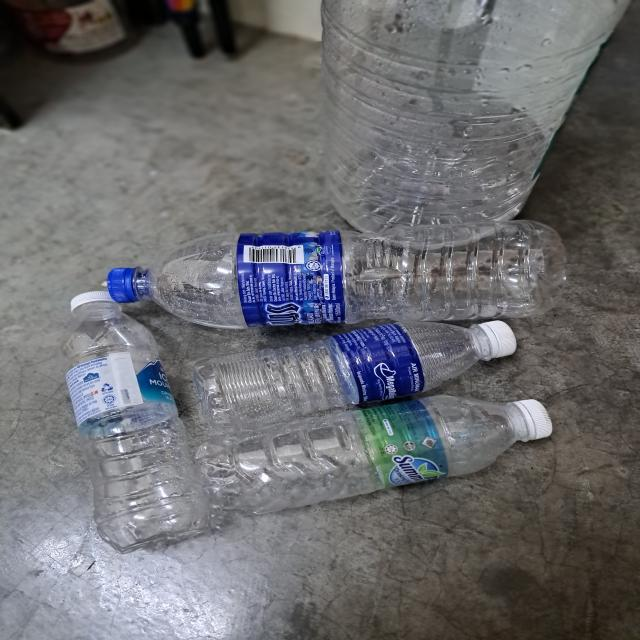plastic bottle: (321, 0, 631, 255), (144, 231, 566, 324), (62, 314, 216, 556), (214, 396, 530, 511), (197, 322, 488, 426)
plastic bottle cap: (515, 394, 559, 447), (479, 316, 520, 363), (108, 266, 144, 308), (69, 287, 116, 316)
